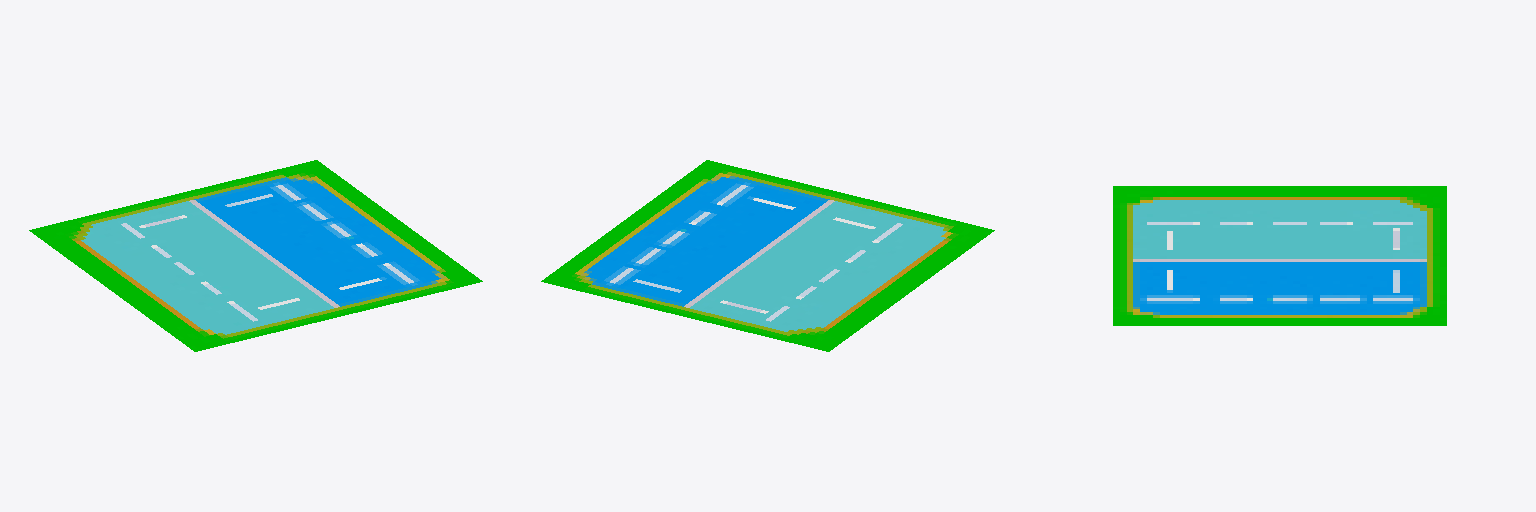
The picture shows the model from 3 angles: view 1: azimuth 30°, elevation 25°; view 2: azimuth 150°, elevation 25°; view 3: azimuth 270°, elevation 25°; orthographic projection.
Visible parts, largest first — view 1: Plane; view 2: Plane; view 3: Plane.
Boxes of the visible parts, x1,y1,x2,y2 form: Plane: [29, 160, 482, 351]; Plane: [541, 160, 994, 351]; Plane: [1113, 186, 1446, 325].
Size of the model in its own units: 100 by 0 by 100.
1 materials, 1 textured.